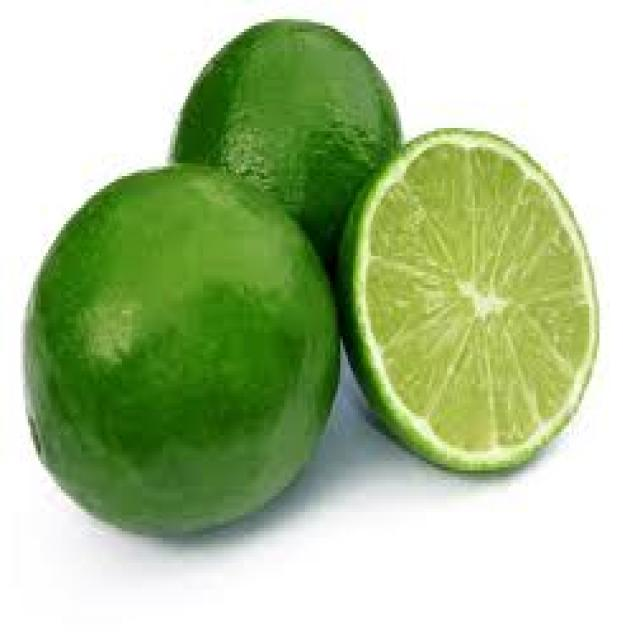lemon: (5, 12, 602, 538)
